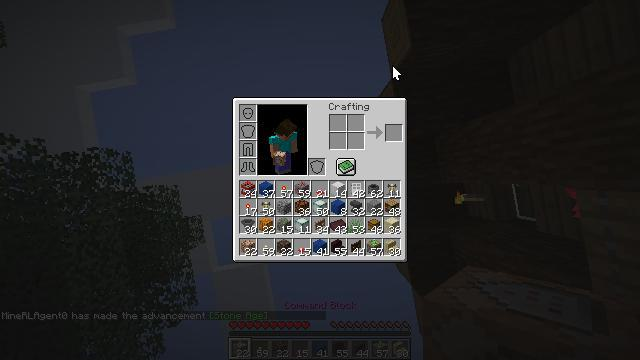cursor: (392, 65, 402, 81)
